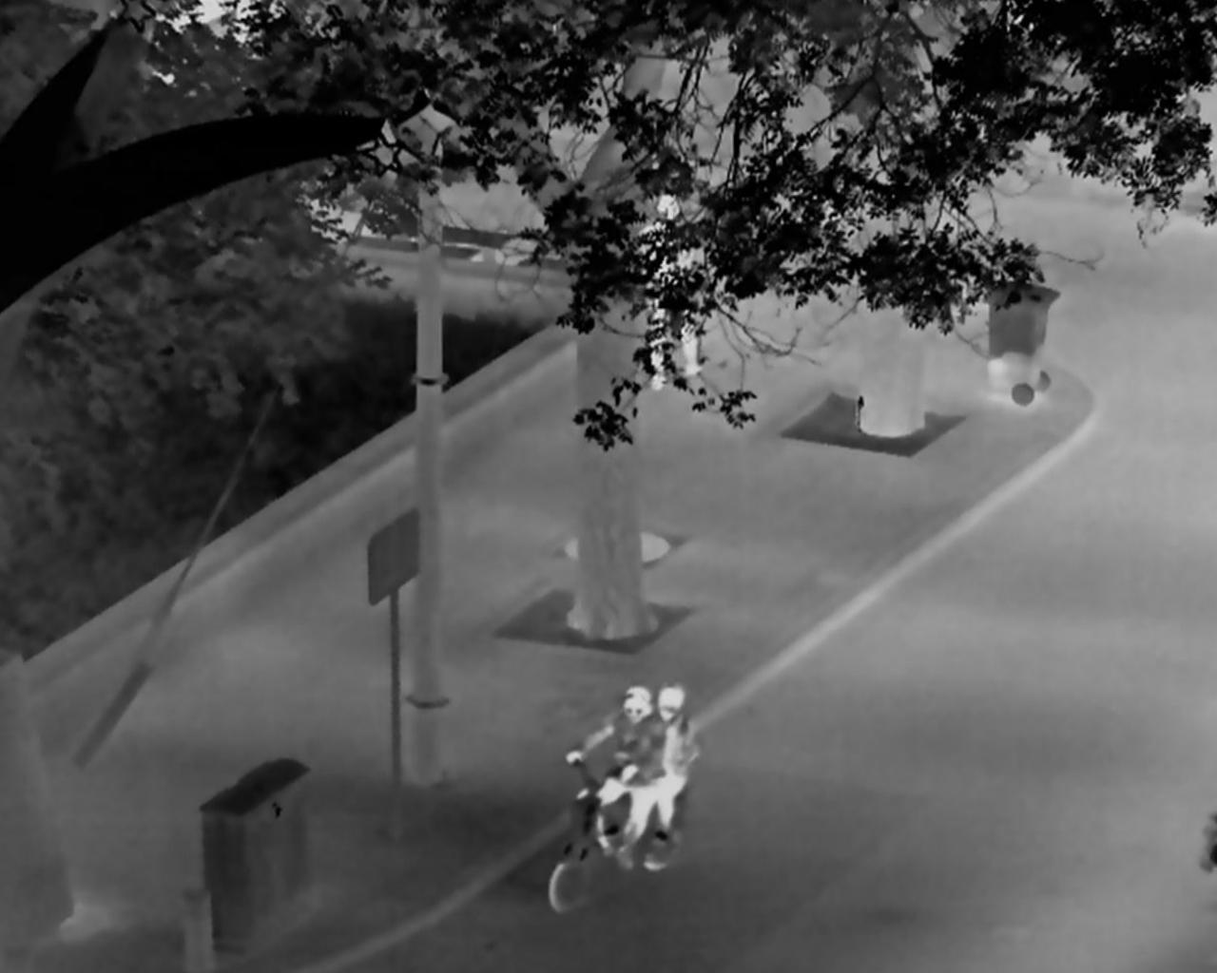person: (565, 684, 664, 869), (639, 193, 705, 390), (645, 684, 696, 848)
